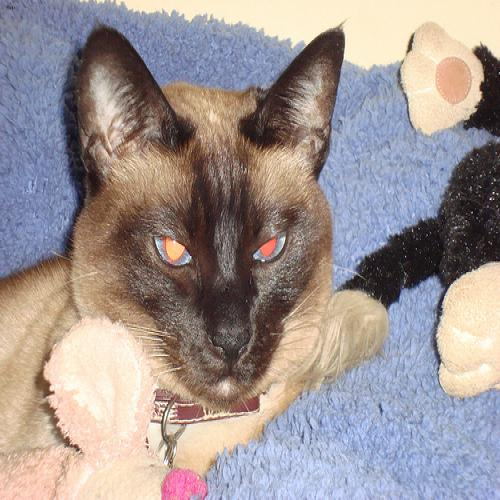siamese: (57, 9, 379, 424)
